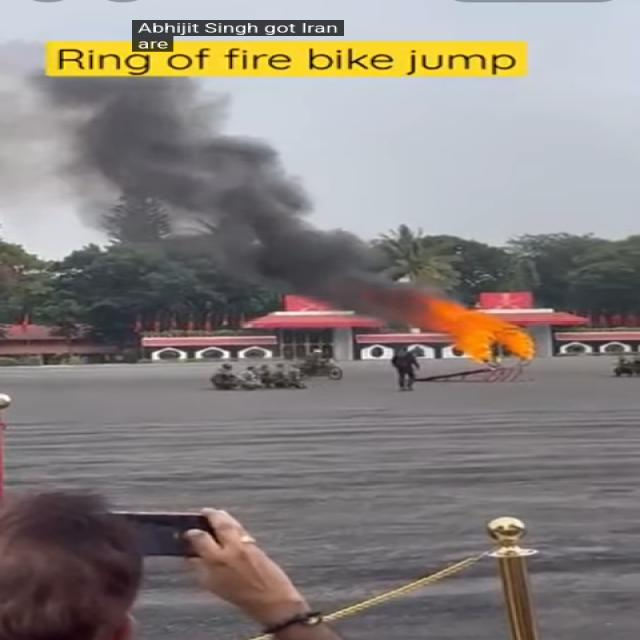fire: (426, 295, 536, 368)
